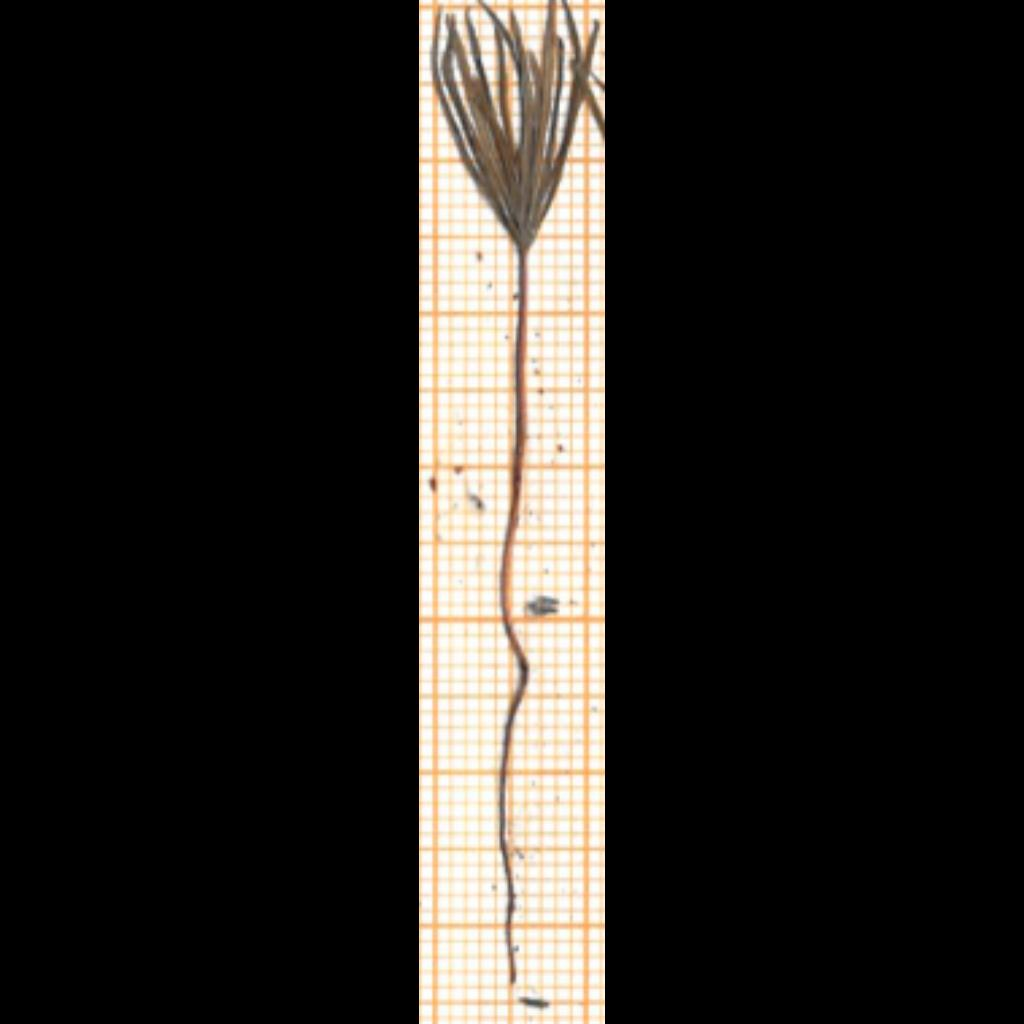flowerPinus: (433, 0, 580, 251)
rootPinus: (500, 621, 529, 983)
stemPinus: (500, 252, 526, 623)
